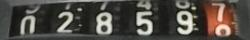digits: (210, 1, 239, 40), (15, 5, 49, 38), (174, 0, 198, 34), (55, 10, 82, 33), (134, 0, 152, 34), (95, 11, 113, 34)
